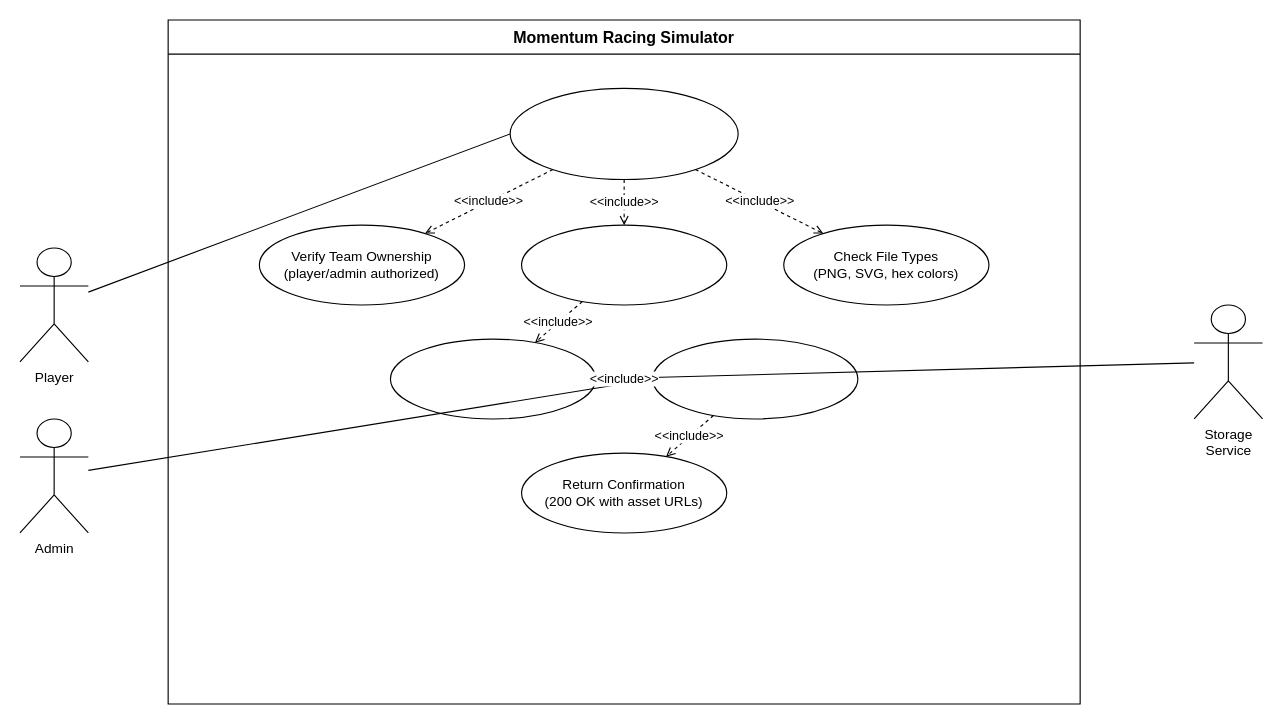
The diagram is 1283 pixels wide and 724 high, and some of its shapes have lost their labels. The shapes that lost their labels are listed below. From the top down, each one's box as (x1, y1, x2, y2) in pixels, then its label:
(509, 87, 738, 180): Update Team Branding
(520, 224, 727, 305): Validate Branding Assets (logos, colors, livery)
(389, 338, 596, 419): Upload Asset Files (storage service)
(652, 338, 858, 419): Update Team Metadata (teams.branding_id)
